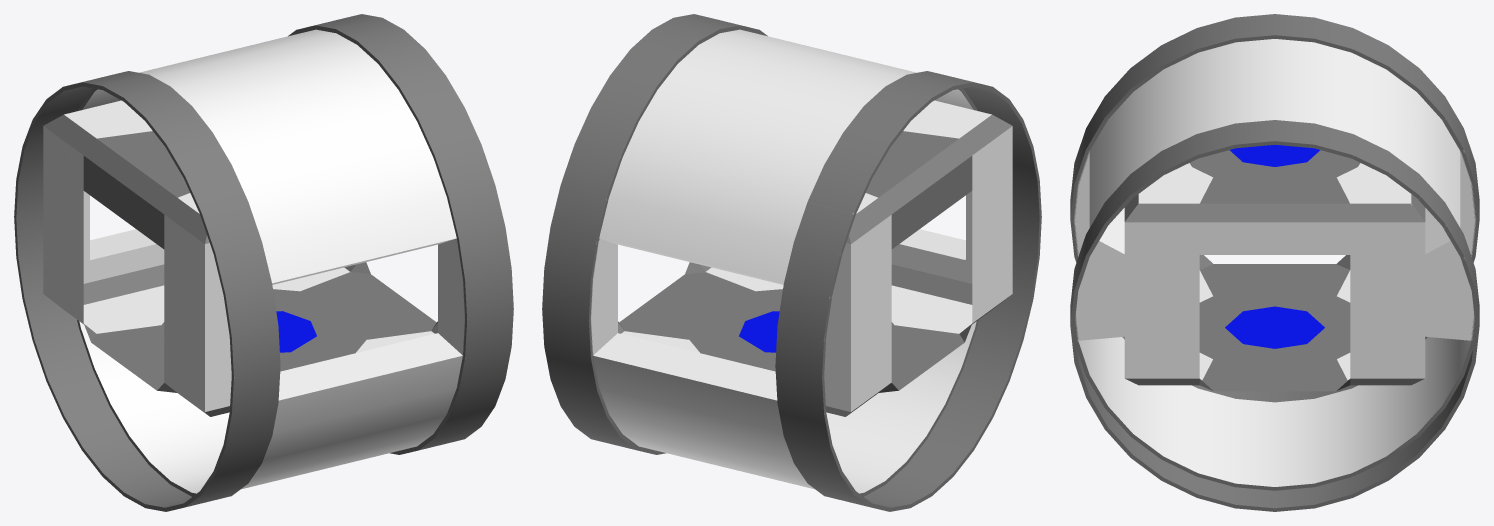
The model's file is HabSpawn.fbx.
3 renders of one model, left to right at view 1: azimuth 30°, elevation 25°; view 2: azimuth 150°, elevation 25°; view 3: azimuth 270°, elevation 25°, orthographic. The views are drawn at different scales.
Visible parts, largest first — view 1: HabSpawn; view 2: HabSpawn; view 3: HabSpawn.
Part boxes in pixels (<box>): HabSpawn: <box>14,14,513,511</box>; HabSpawn: <box>542,14,1041,511</box>; HabSpawn: <box>1070,14,1479,511</box>.
Size of the model in its own units: 1500 by 2040 by 2040.
Materials: 1 (1 with a texture image).
